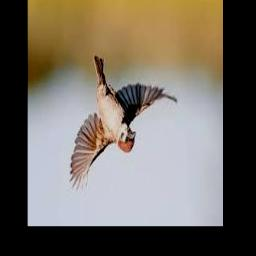Sparrow: (69, 56, 177, 194)
